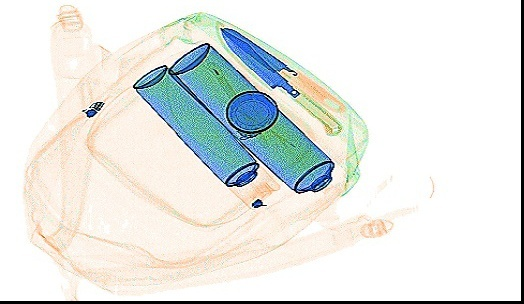knife: (218, 26, 346, 138), (213, 19, 348, 115)
pressure: (165, 39, 335, 195), (129, 61, 284, 211)
